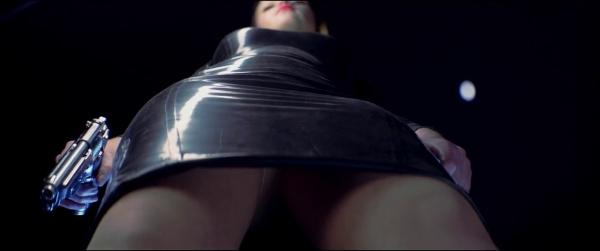Gun: (42, 114, 112, 214)
